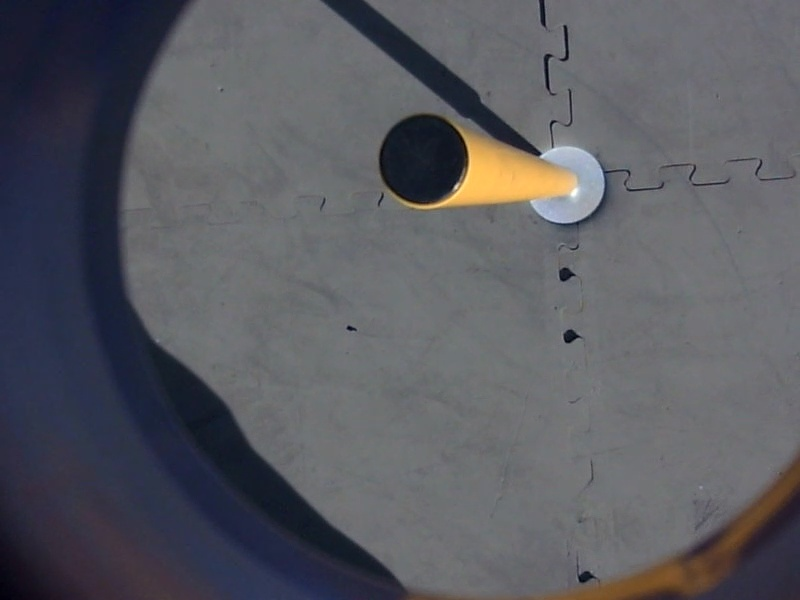tip: (372, 109, 475, 212)
